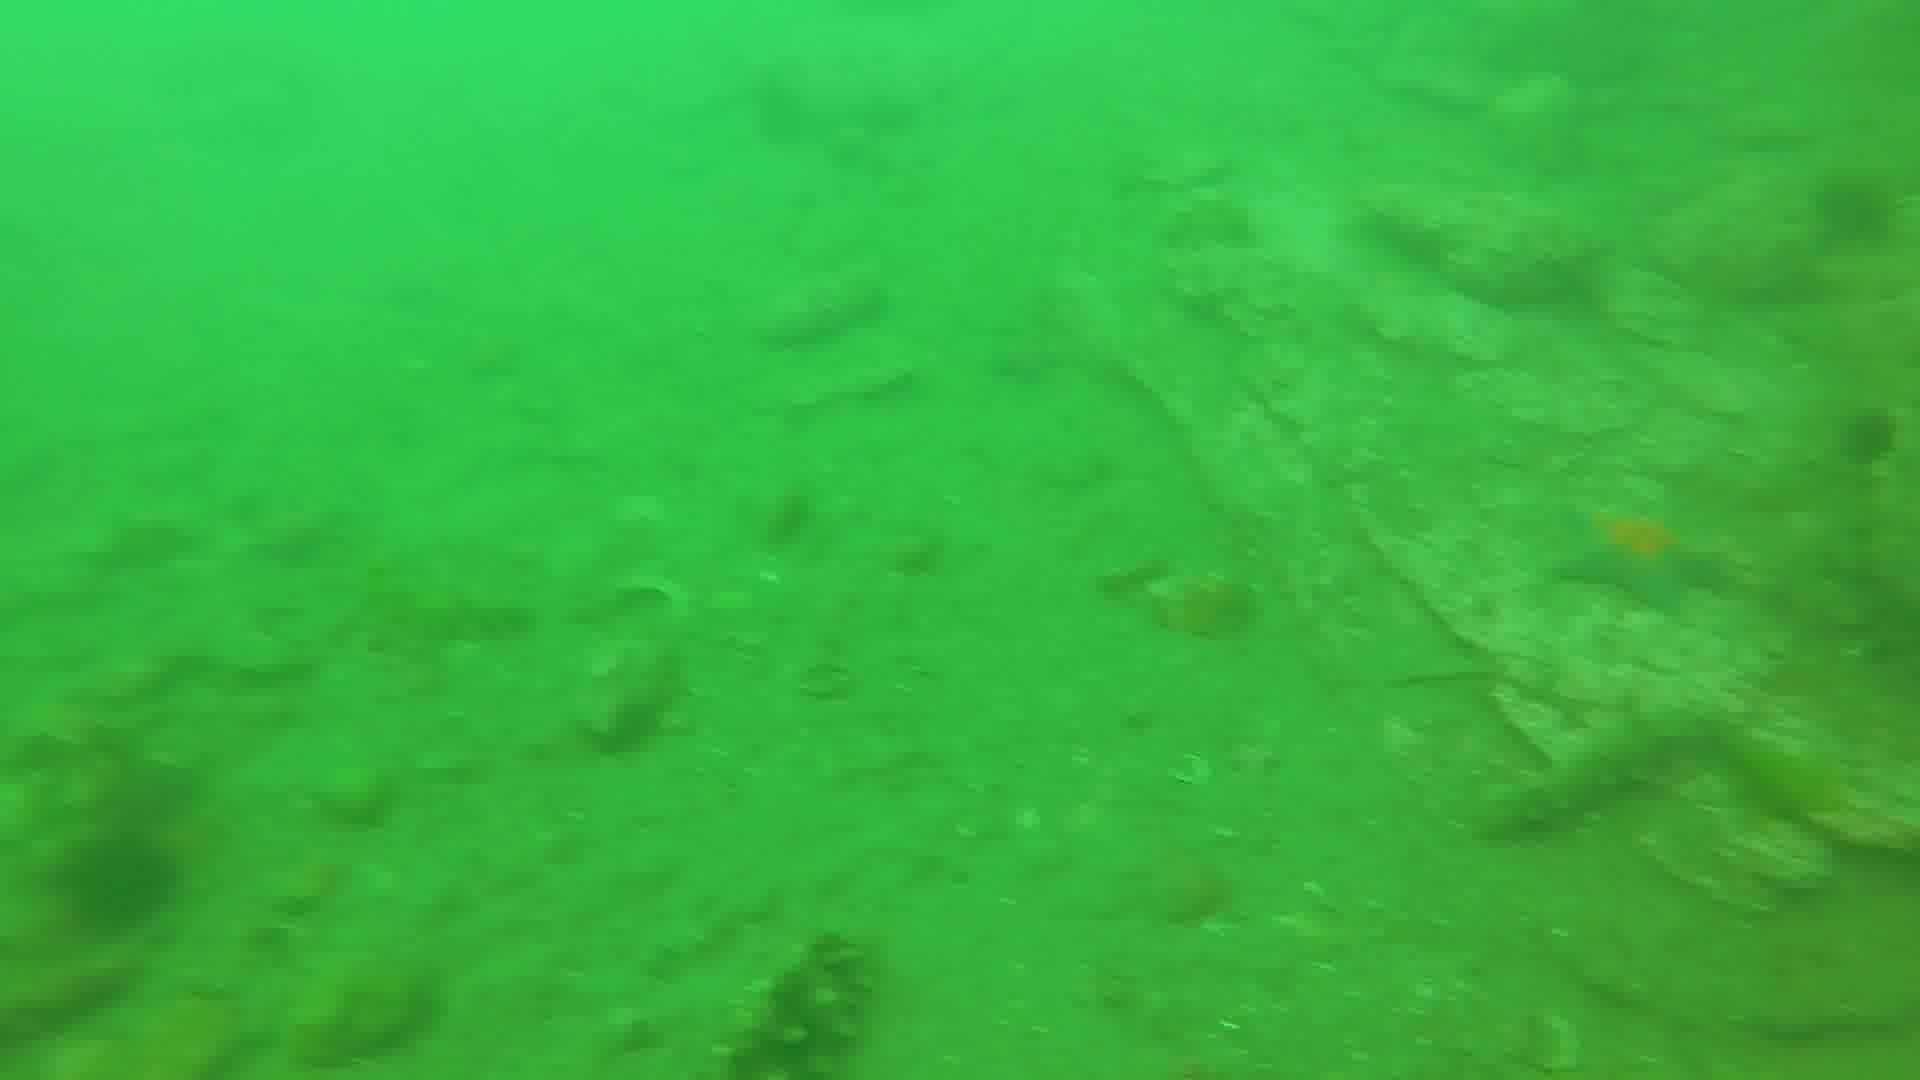echinus: (51, 827, 179, 942), (1807, 167, 1902, 251), (1833, 402, 1905, 472)
holothurian: (1474, 702, 1721, 844), (717, 927, 878, 1077)
starfish: (1549, 495, 1731, 618)
